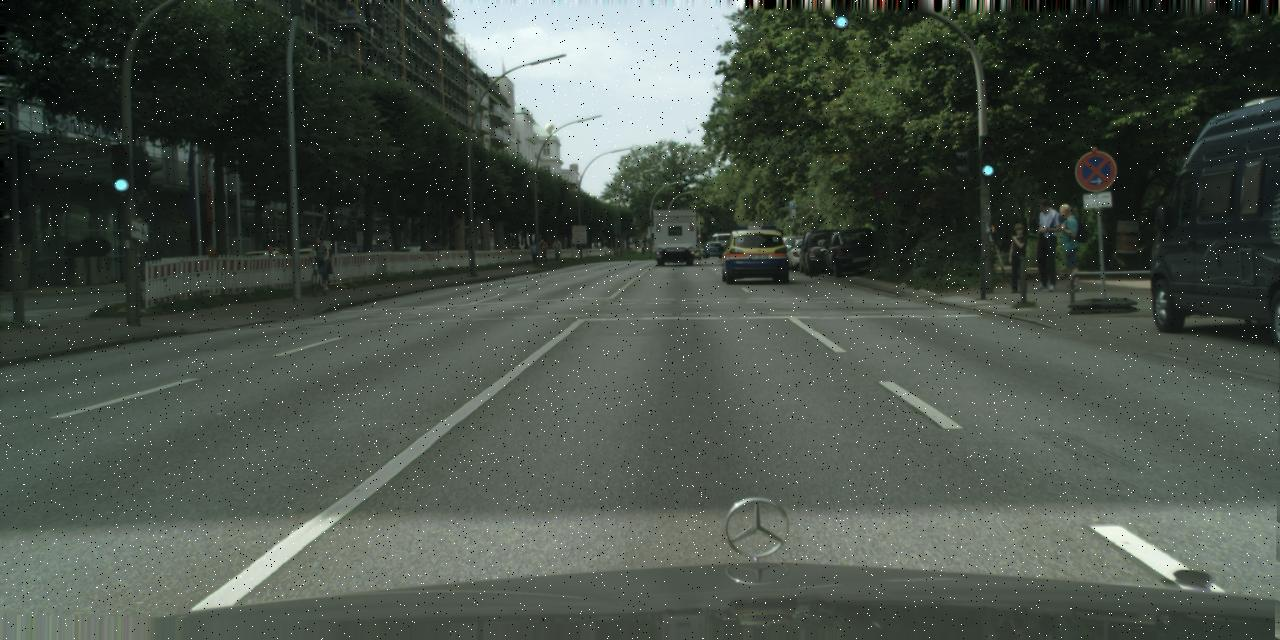ped: (1025, 198, 1063, 291), (1051, 203, 1087, 291), (1004, 222, 1032, 292), (310, 234, 330, 280), (273, 239, 291, 285), (537, 240, 547, 262), (529, 240, 538, 264), (552, 238, 560, 258)
